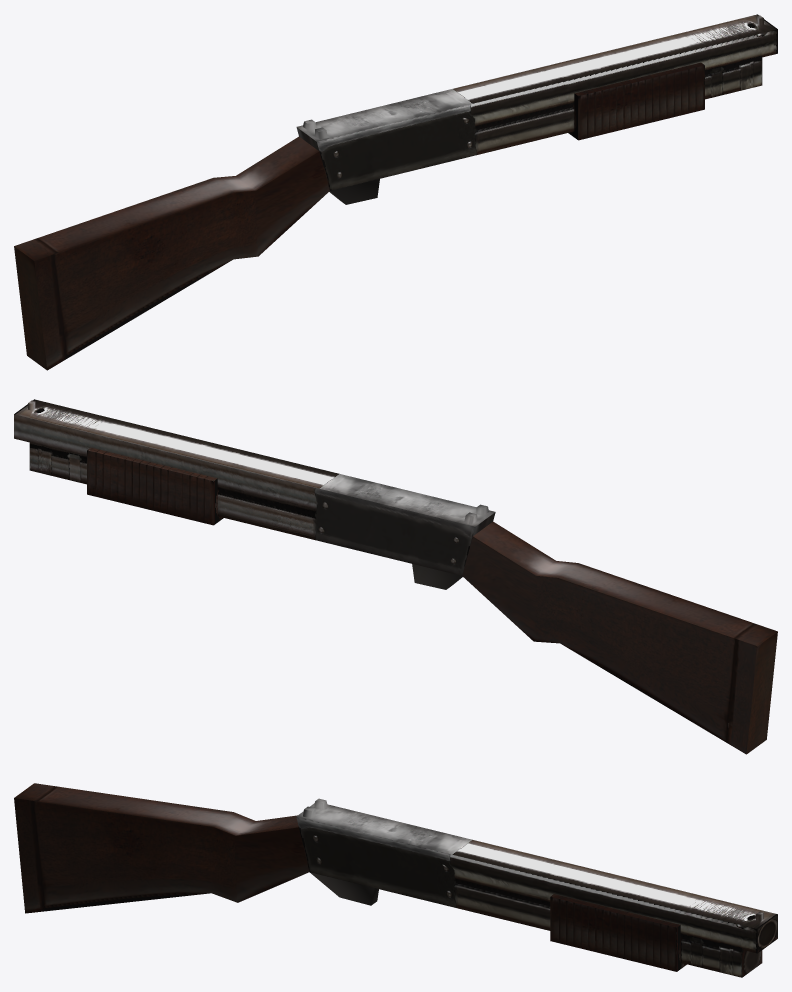
File: Shotgun.fbx
3 views of the same model, one above another, from view 1: azimuth 30°, elevation 25°; view 2: azimuth 150°, elevation 25°; view 3: azimuth 330°, elevation 25° (orthographic).
Visible parts, largest first — view 1: ShotgunLow; view 2: ShotgunLow; view 3: ShotgunLow.
Boxes of the visible parts, <box> form: ShotgunLow: <box>14,14,777,370</box>; ShotgunLow: <box>14,399,777,754</box>; ShotgunLow: <box>14,783,777,977</box>.
Bounding box in the file's own units: 152 × 32.92 × 9.92.
Materials: 1 (1 with a texture image).
